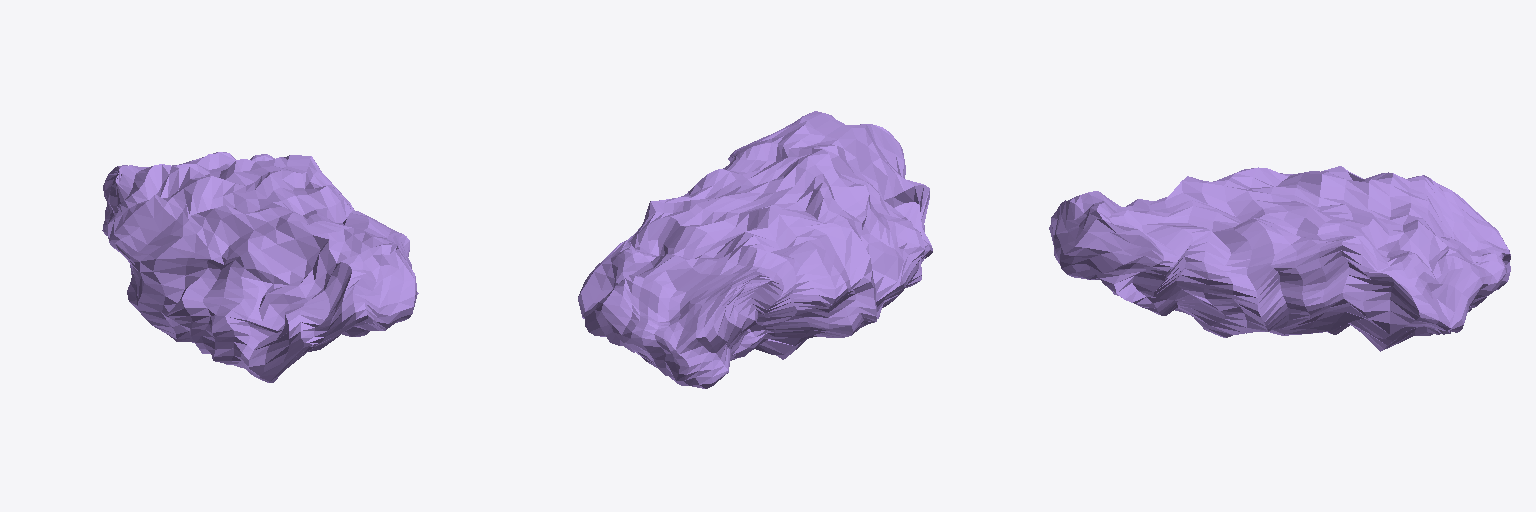
The model's file is cloud.obj.
The picture shows the model from 3 angles: view 1: azimuth 30°, elevation 25°; view 2: azimuth 150°, elevation 25°; view 3: azimuth 270°, elevation 25°; orthographic projection.
Parts seen in each view (by area): view 1: cloud; view 2: cloud; view 3: cloud.
Boxes of the visible parts, box(x1,y1,x2,y2) form: cloud: box(102, 152, 418, 382); cloud: box(578, 111, 932, 388); cloud: box(1049, 166, 1510, 351).
Bounding box in the file's own units: 16.29 × 9.96 × 28.7.